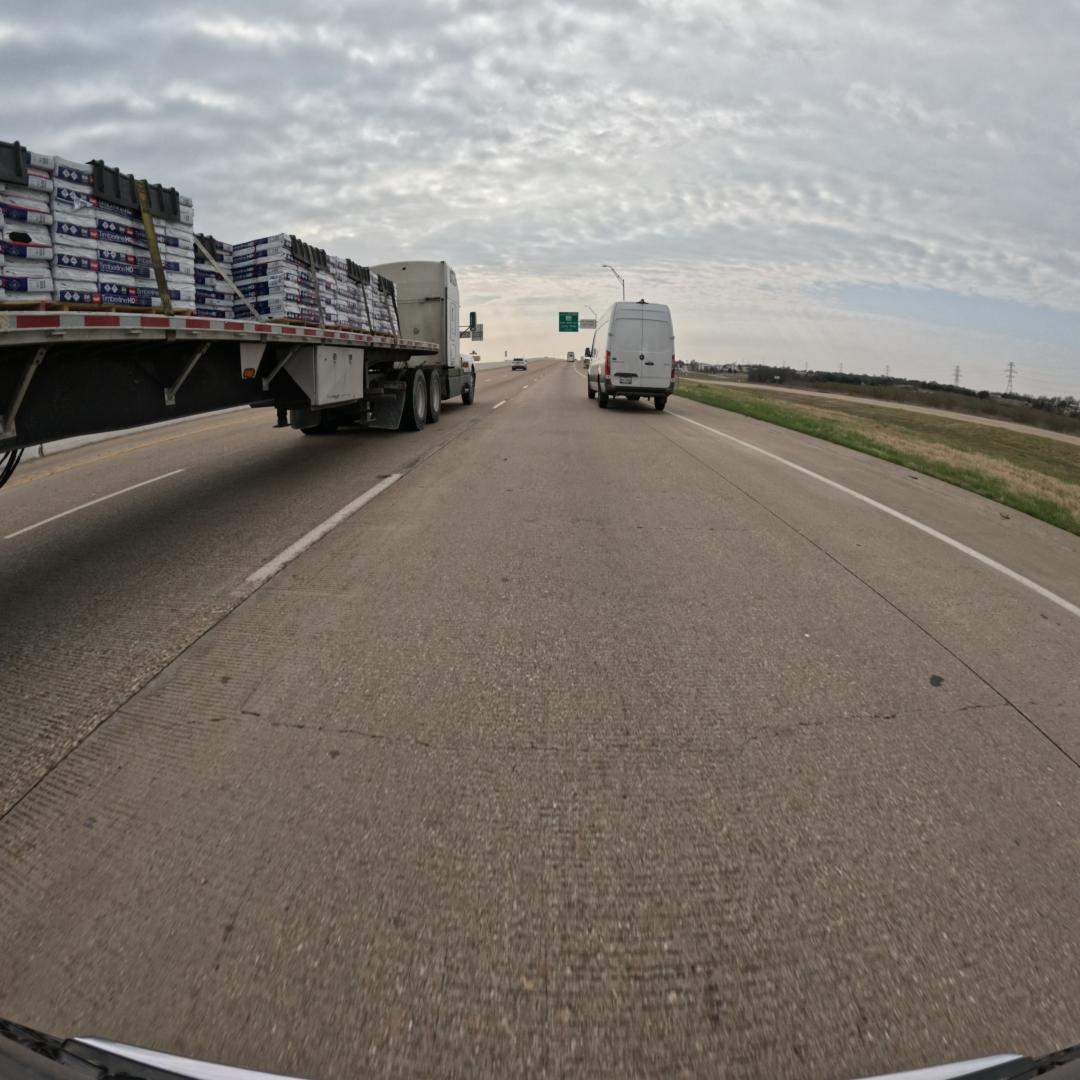lane0: (0, 368, 1080, 1077)
lane1: (0, 409, 479, 817)
